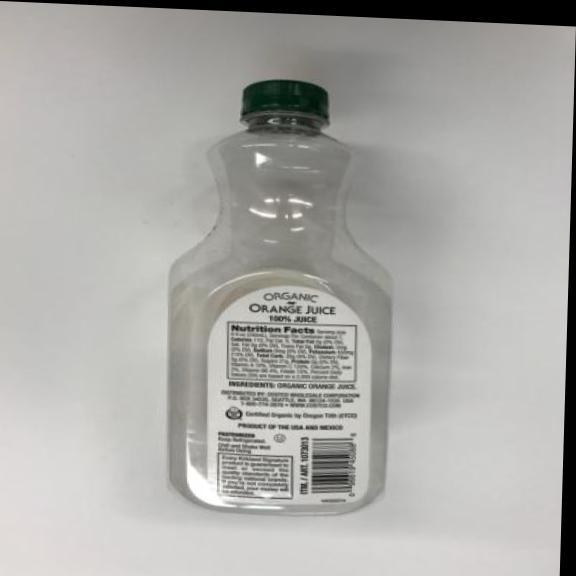Plastik: (156, 72, 399, 522)
